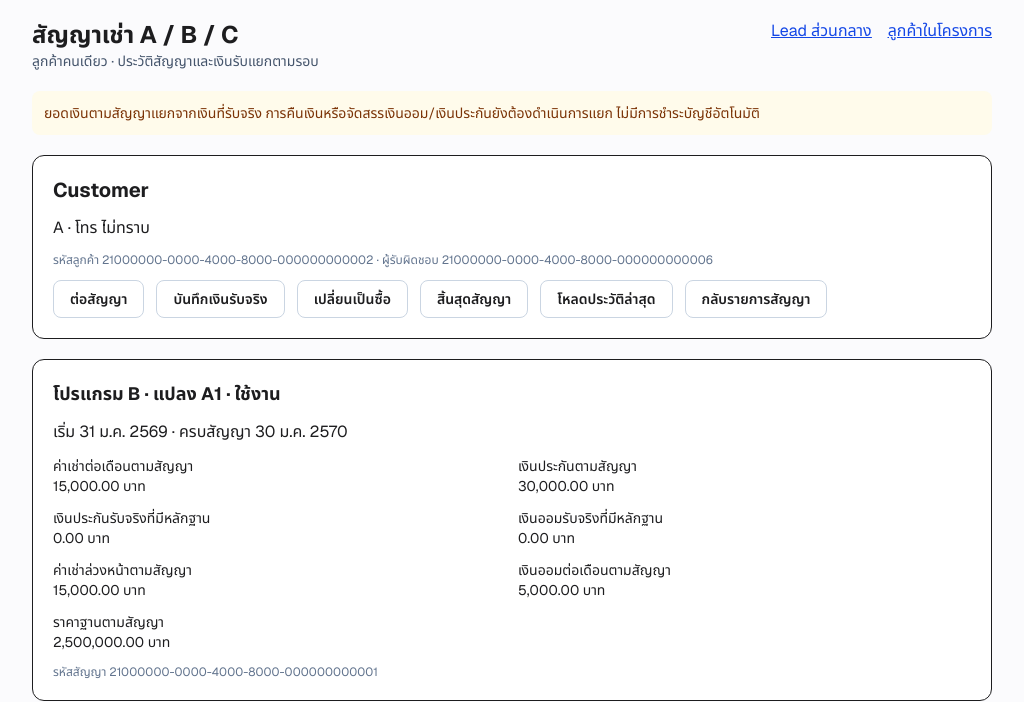
Test: canonical rental workspace › fails closed on storage failure before any request
The width and height of the screenshot is (1024, 702).
Check: the heading "Customer" is shown, box x1=53 y1=177 x2=149 y2=203
Click the button "ต่อสัญญา".
click(99, 299)  # box x1=53 y1=280 x2=144 y2=318
(page scrolled)
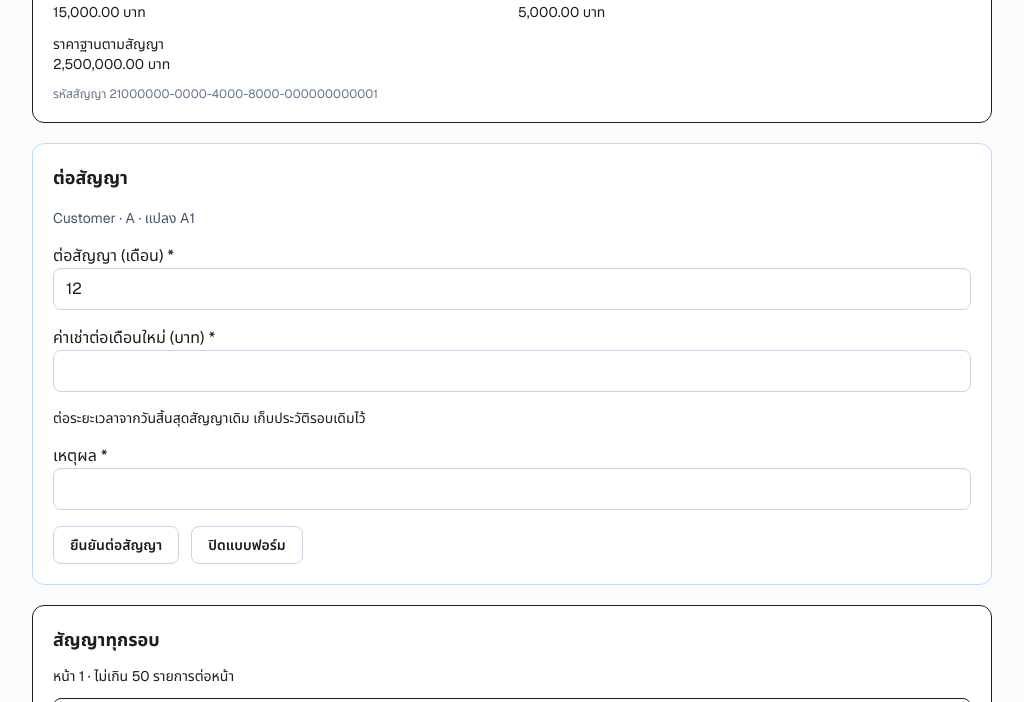
Type "16000" into the field labelled "ค่าเช่าต่อเดือนใหม่ (บาท) *".
click(512, 371); type("16000")  # box x1=53 y1=350 x2=971 y2=392
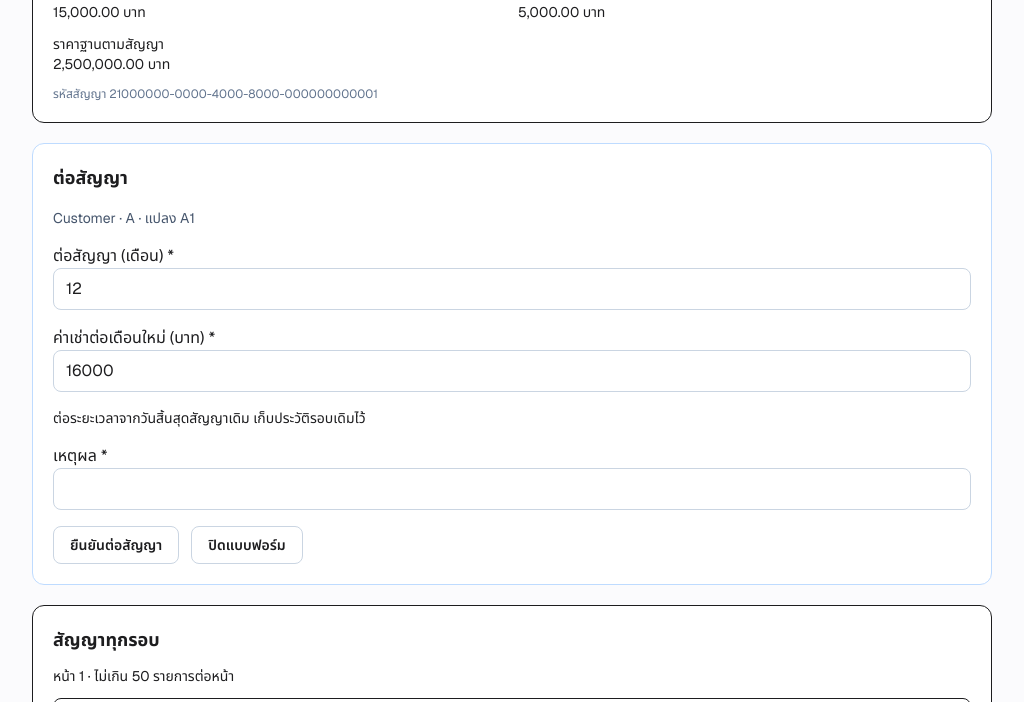
Type "ต่อแล้ว" into the field labelled "เหตุผล *".
click(512, 489); type("ต่อแล้ว")  # box x1=53 y1=468 x2=971 y2=510
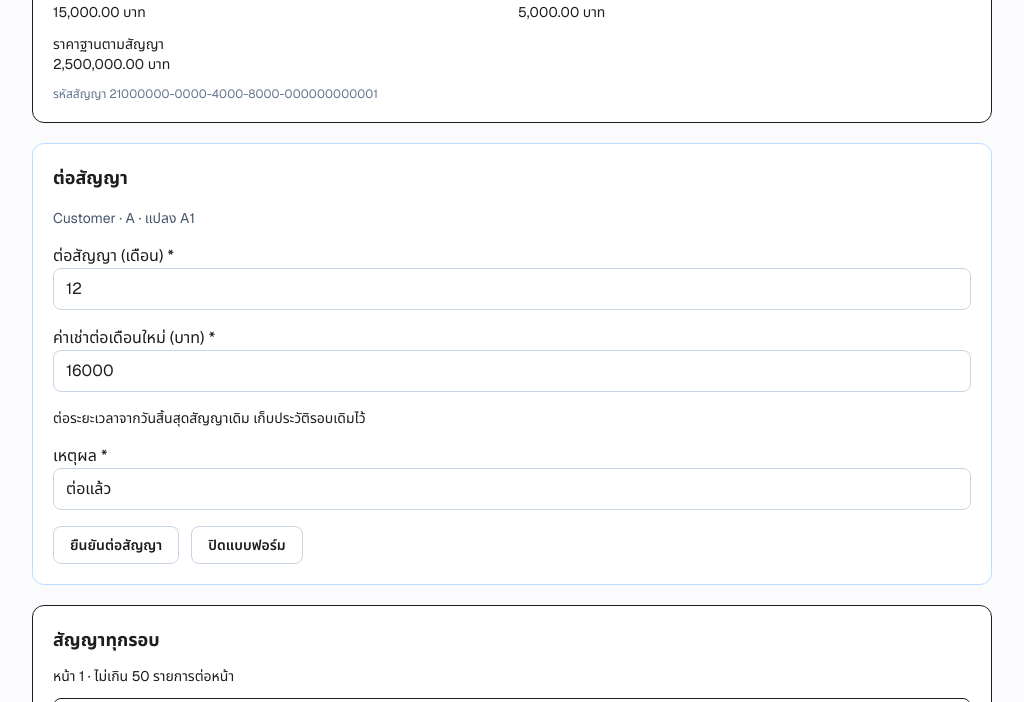
Submit the form named "บันทึกสัญญาเช่า", box x1=32 y1=143 x2=992 y2=585
(page scrolled)
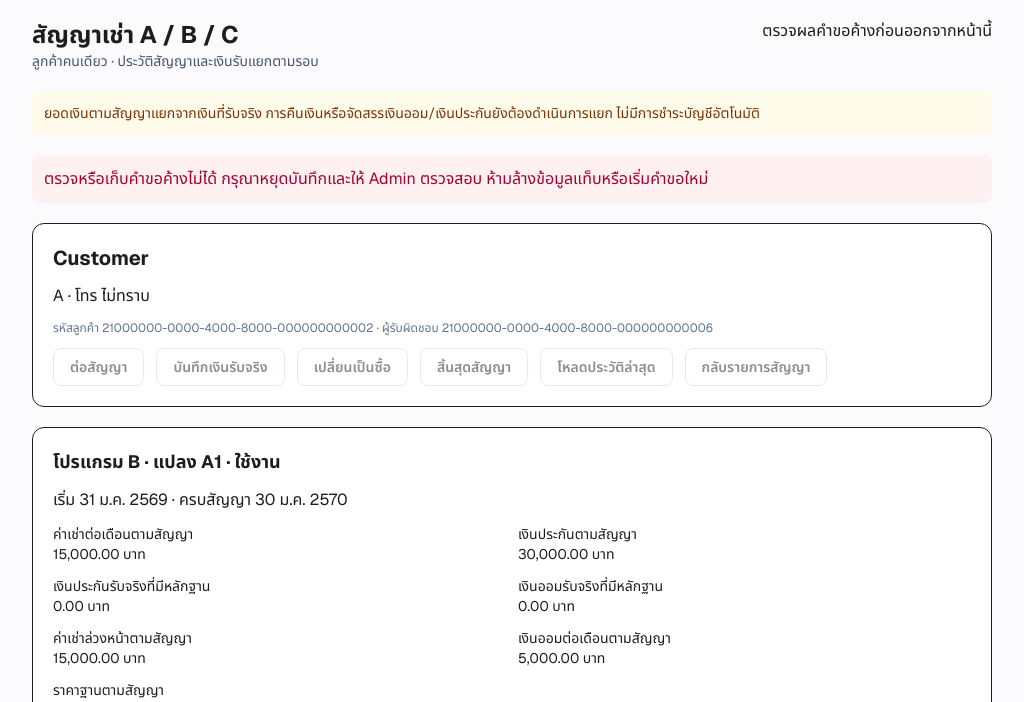
Check: the message shows "ตรวจหรือเก็บคำขอค้างไม่ได้", box x1=44 y1=168 x2=708 y2=189
Check: the button "กลับรายการสัญญา" is disabled, box x1=684 y1=348 x2=827 y2=386
